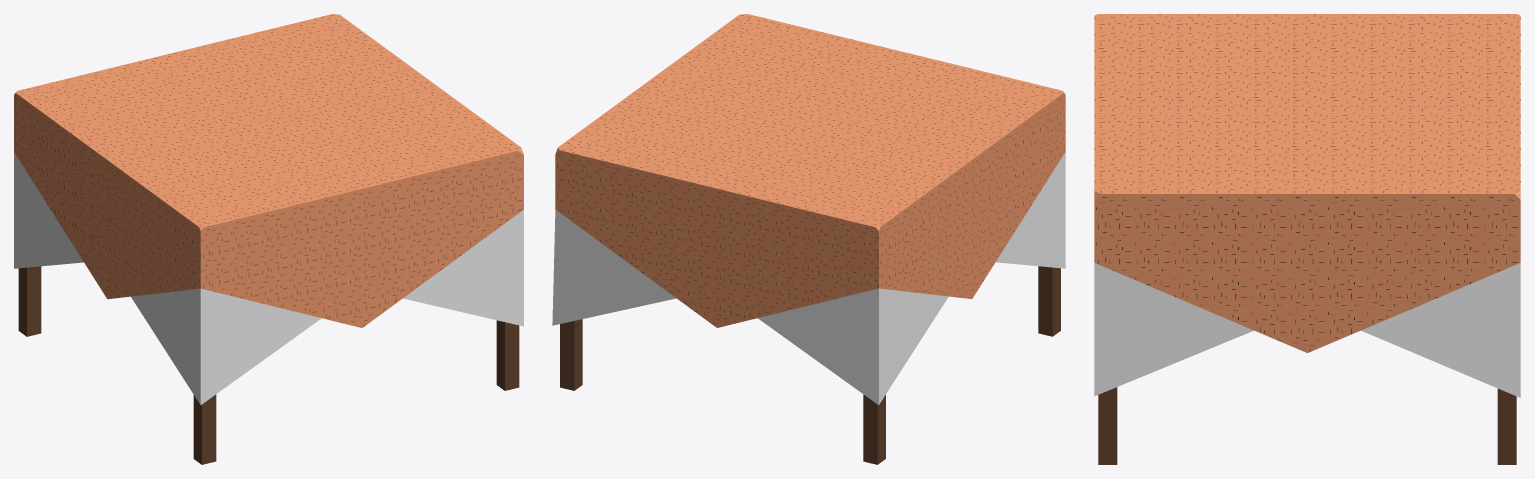
Rendered from tablesalon.fbx.
The picture shows the model from 3 angles, left to right: view 1: azimuth 30°, elevation 25°; view 2: azimuth 150°, elevation 25°; view 3: azimuth 270°, elevation 25°; orthographic projection. The views are drawn at different scales.
Parts seen in each view (by area): view 1: Model, Group1; view 2: Model, Group1; view 3: Model, Group1.
Boxes of the visible parts, x1,y1,x2,y2 form: Model: (14, 14, 523, 404); Group1: (18, 266, 519, 464); Model: (552, 14, 1065, 405); Group1: (560, 266, 1060, 464); Model: (1094, 14, 1520, 397); Group1: (1098, 387, 1516, 464).
Bounding box in the file's own units: 1.13 × 0.79 × 1.12.
